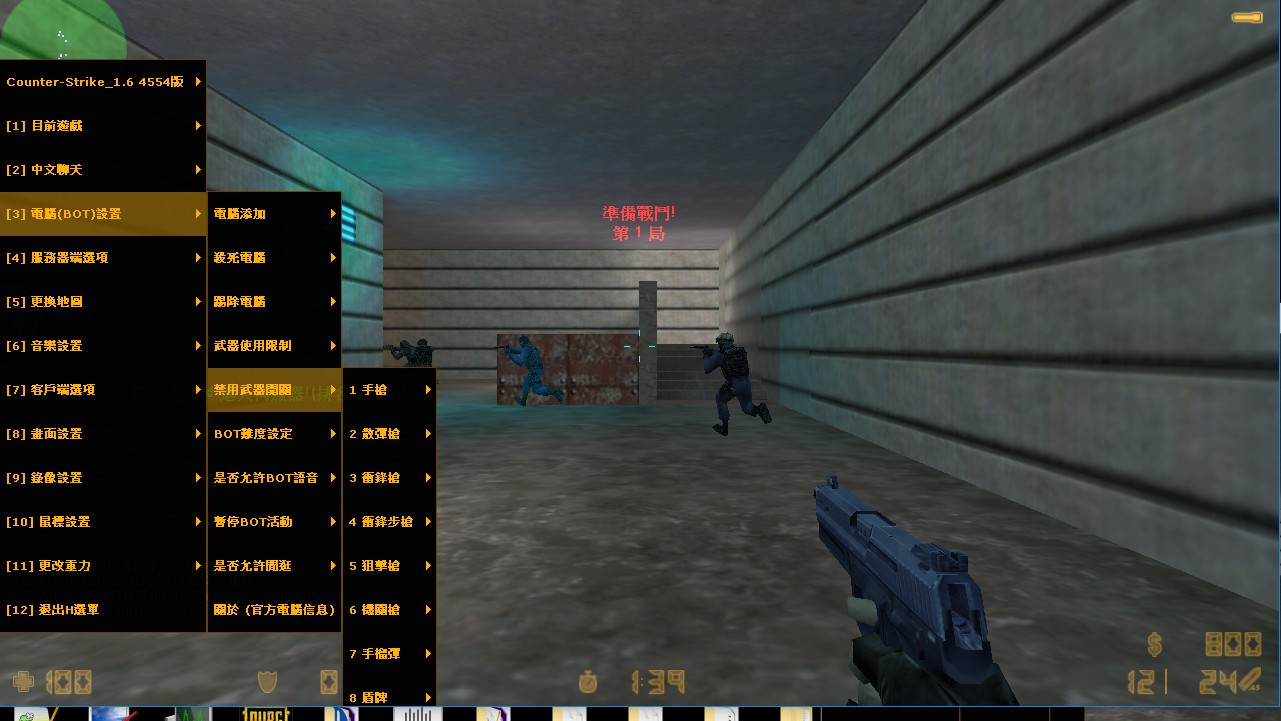person: (704, 331, 758, 432), (504, 328, 553, 402)
